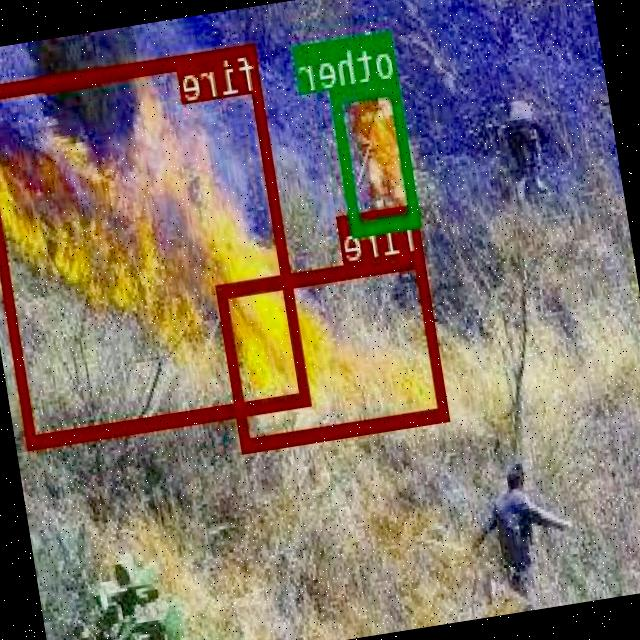fire: (0, 42, 312, 447), (217, 248, 450, 450)
